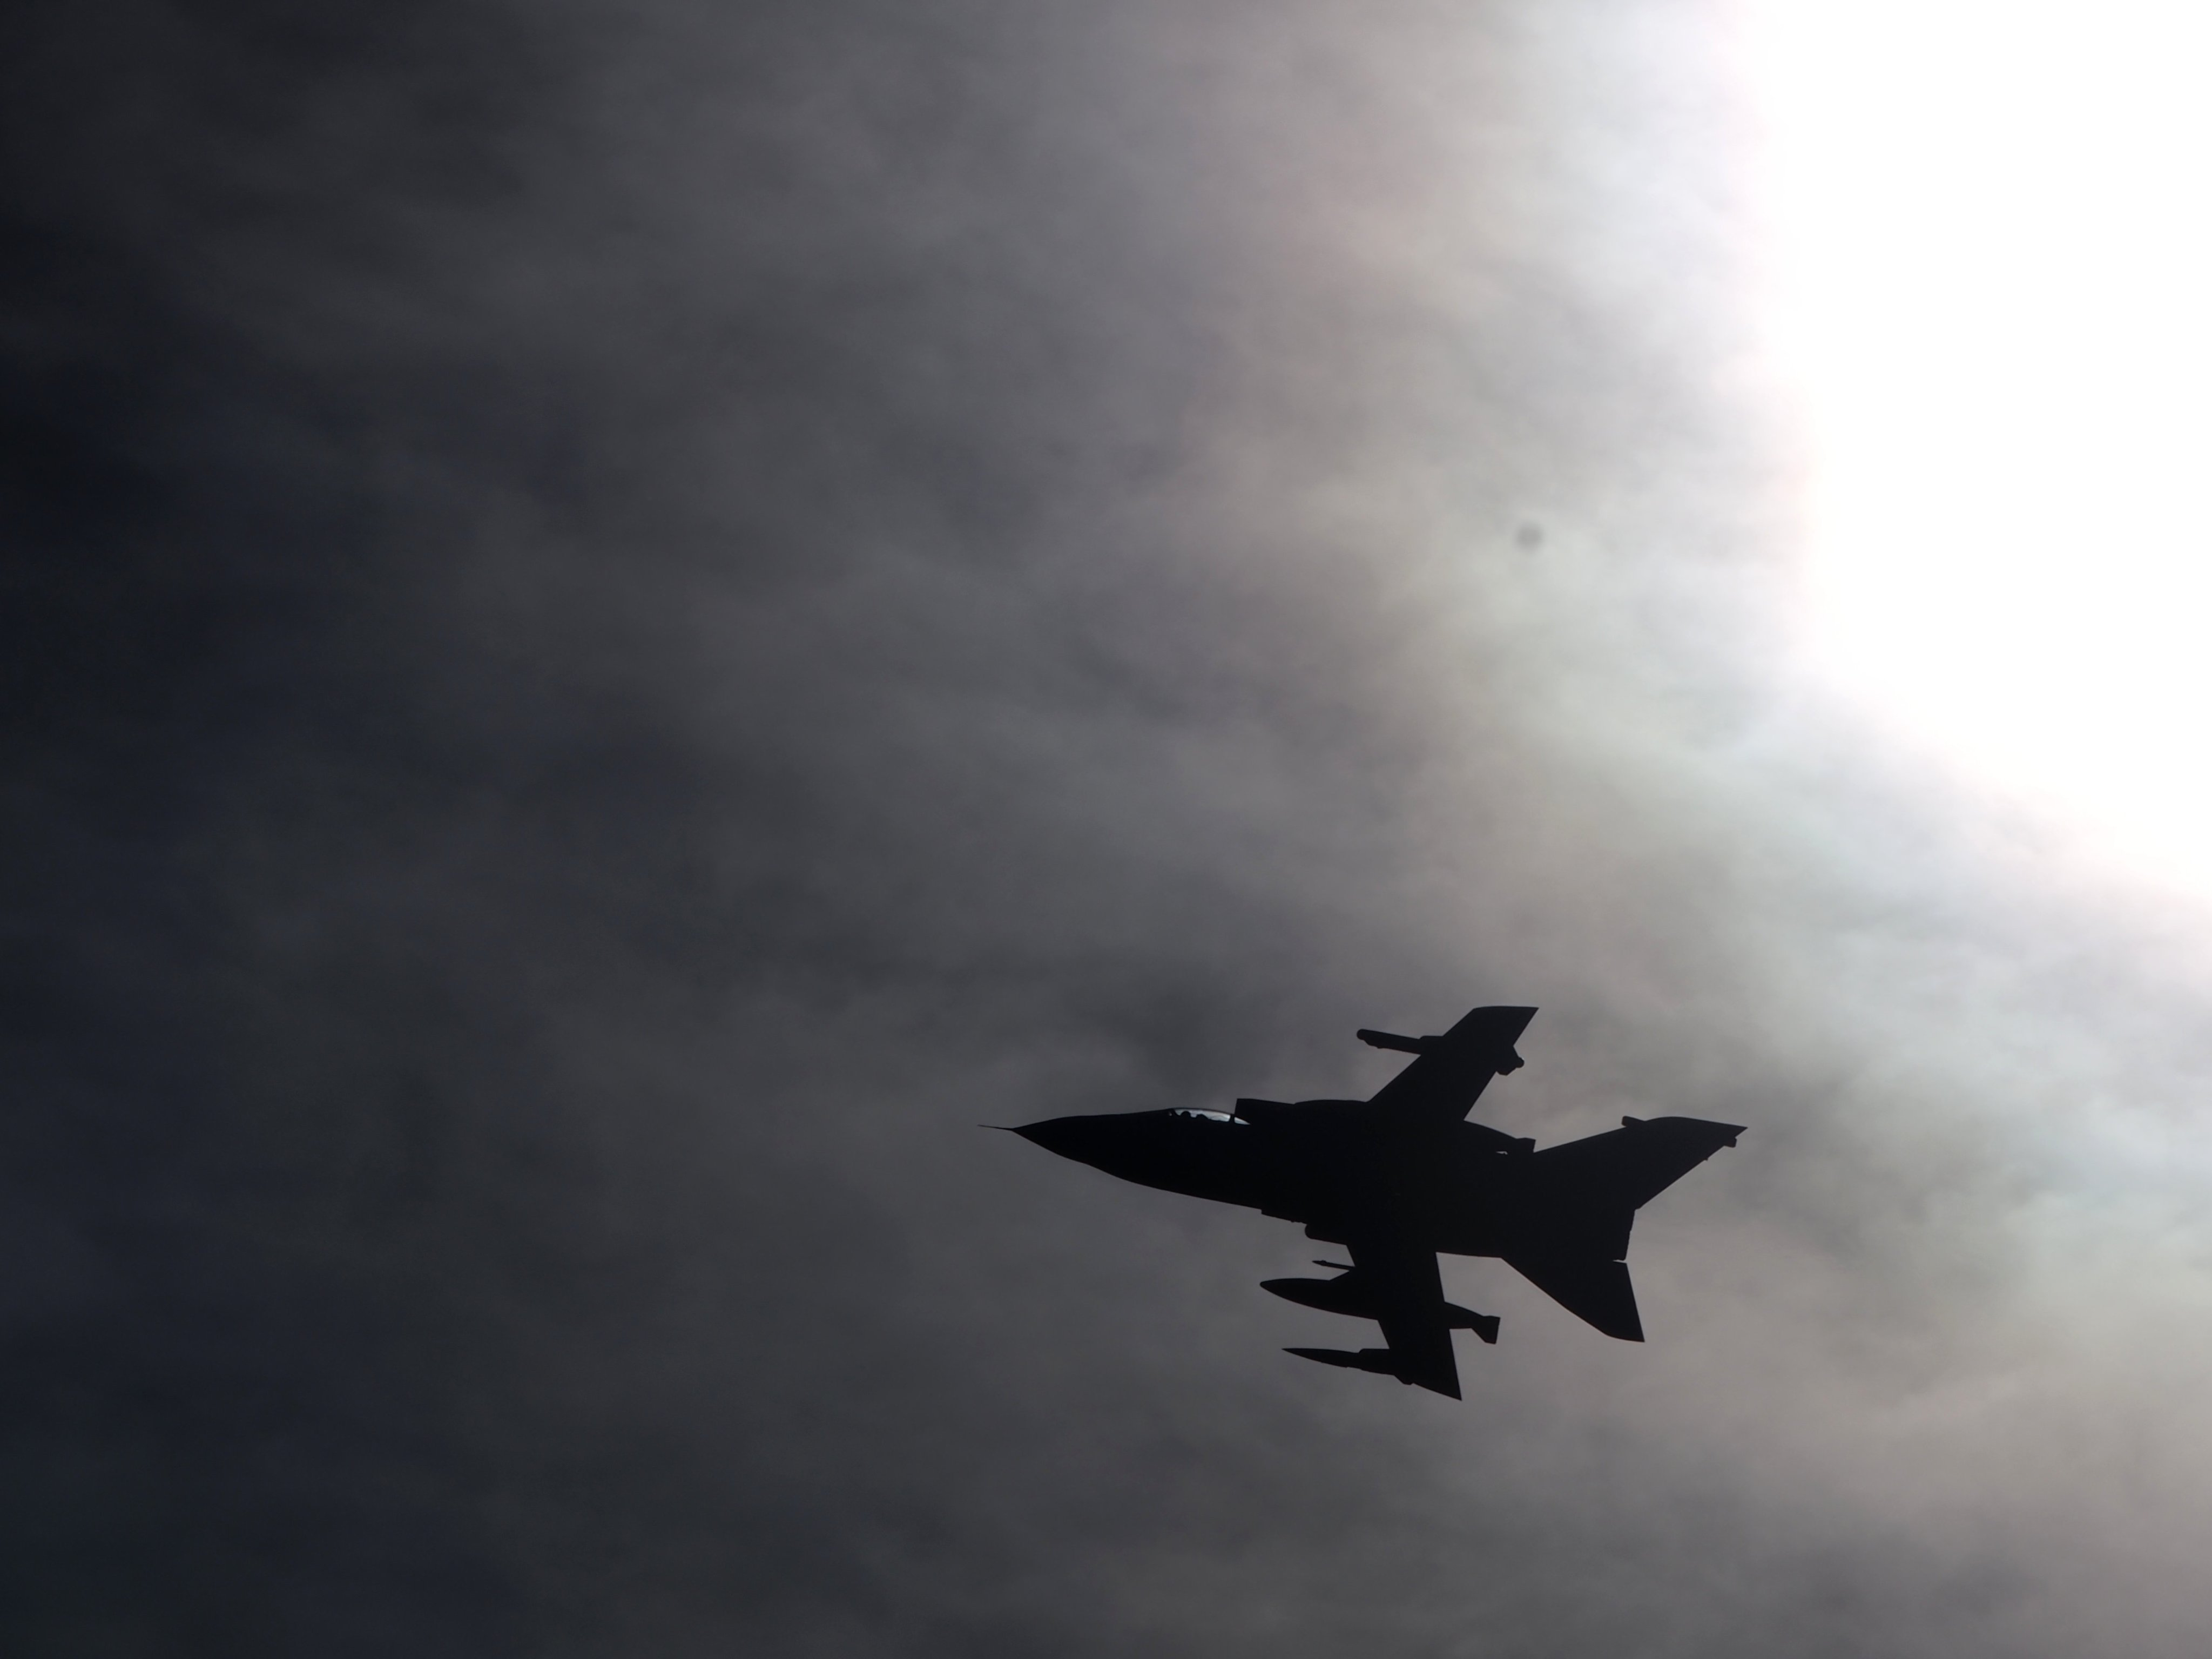Tornado: (975, 1006, 1749, 1401)
